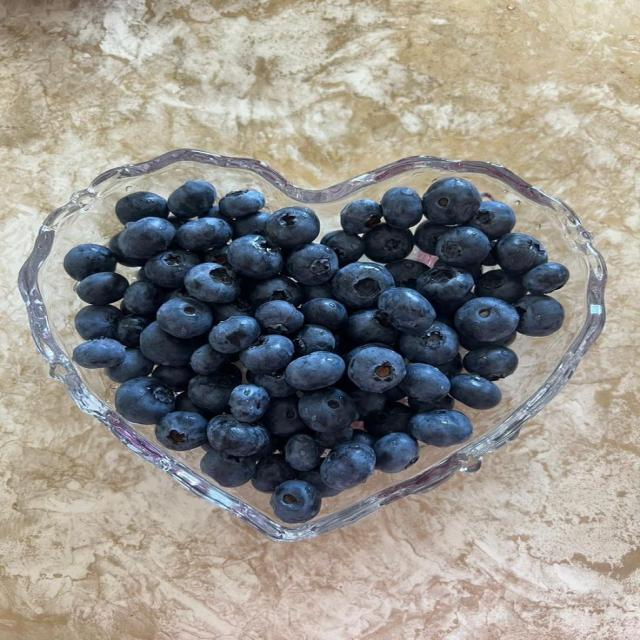blueberry: (422, 177, 481, 225), (455, 297, 519, 341), (332, 263, 393, 308), (115, 378, 174, 424), (378, 288, 435, 334), (348, 347, 406, 392), (320, 442, 375, 489), (207, 415, 269, 456), (299, 388, 358, 431), (140, 322, 198, 365), (400, 323, 459, 365), (227, 235, 283, 279), (118, 217, 175, 258), (286, 351, 345, 390), (188, 368, 239, 412), (410, 410, 472, 446), (270, 480, 321, 523), (157, 298, 213, 337), (266, 207, 319, 248), (185, 263, 239, 303), (436, 227, 490, 267), (416, 265, 473, 302), (145, 250, 199, 289), (496, 233, 547, 274), (200, 449, 255, 487), (240, 335, 294, 373), (514, 295, 564, 336), (287, 244, 338, 284), (64, 244, 117, 281), (400, 363, 450, 402), (155, 412, 206, 450), (209, 316, 260, 353), (176, 218, 233, 251), (364, 224, 413, 262), (167, 181, 216, 219), (463, 347, 518, 380), (468, 201, 515, 239), (450, 374, 501, 409), (374, 433, 419, 472), (261, 396, 306, 435), (347, 310, 397, 345), (380, 187, 422, 228), (76, 272, 128, 305), (364, 402, 413, 437), (248, 276, 303, 307), (475, 269, 525, 303), (115, 192, 168, 224), (252, 454, 295, 493), (74, 305, 123, 339), (255, 301, 304, 334), (107, 348, 153, 383), (321, 230, 365, 266), (74, 338, 126, 368), (229, 385, 269, 422), (523, 263, 569, 295), (340, 199, 382, 234), (123, 281, 166, 315), (433, 292, 476, 326), (301, 299, 347, 330), (292, 325, 335, 356), (285, 434, 320, 471), (108, 232, 146, 266), (247, 372, 295, 398), (414, 221, 450, 255), (386, 259, 428, 288), (220, 190, 265, 217), (190, 344, 229, 375), (297, 470, 340, 497), (116, 315, 152, 347), (349, 388, 386, 418), (154, 365, 195, 392), (460, 331, 517, 350), (343, 343, 388, 367), (211, 299, 253, 322), (233, 211, 270, 237), (175, 393, 211, 419), (314, 426, 353, 450), (408, 396, 454, 414), (198, 205, 233, 224), (203, 244, 230, 266), (301, 283, 333, 301), (437, 354, 462, 377), (351, 429, 377, 447), (482, 241, 497, 266), (385, 385, 406, 401), (464, 263, 482, 281), (167, 214, 185, 230), (136, 266, 150, 282)
